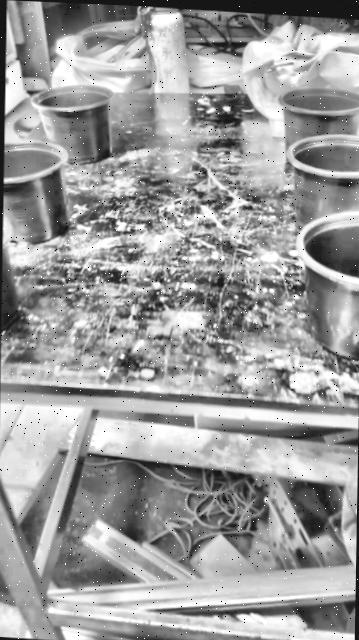pot: (295, 209, 359, 358), (1, 139, 69, 247), (26, 82, 110, 163), (287, 133, 359, 227), (277, 87, 359, 151), (0, 216, 16, 330)
